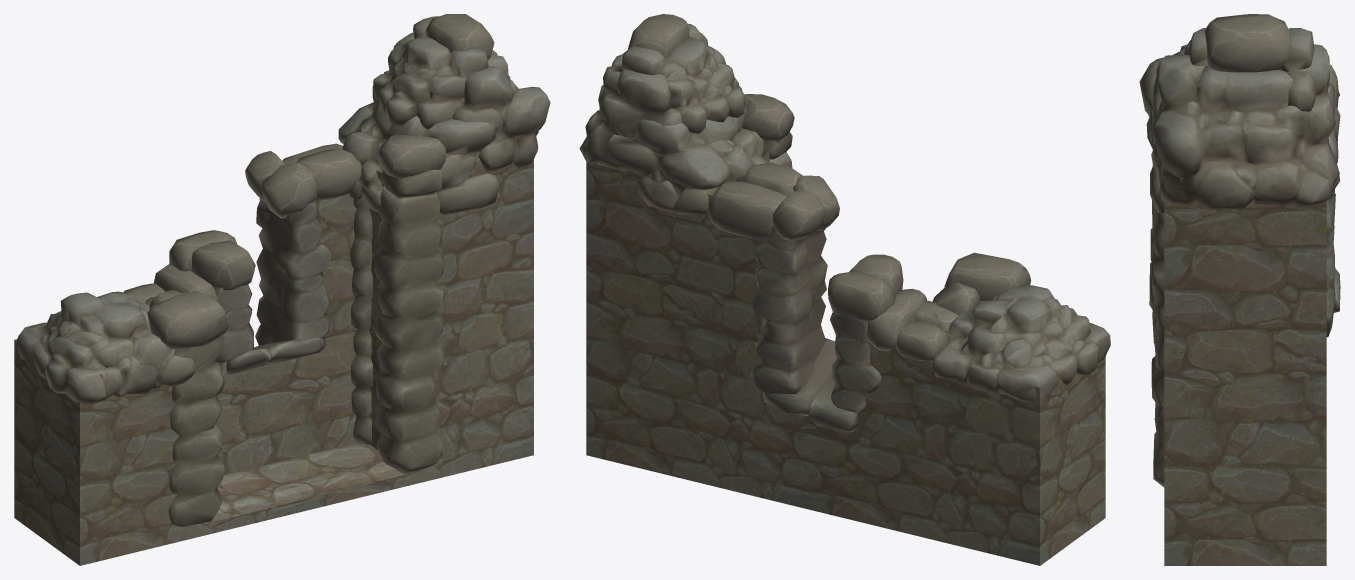
The model's file is MSH_fwOF_Ruins_Wall_Window_01_B.fbx.
3 views of the same model, side by side, from view 1: azimuth 30°, elevation 25°; view 2: azimuth 150°, elevation 25°; view 3: azimuth 270°, elevation 25° (orthographic). The views are drawn at different scales.
Parts seen in each view (by area): view 1: MSH_fwOF_Ruins_Wall_Window_01_B_LOD0, MSH_fwOF_Ruins_Wall_Window_01_B_Base; view 2: MSH_fwOF_Ruins_Wall_Window_01_B_Base, MSH_fwOF_Ruins_Wall_Window_01_B_LOD0; view 3: MSH_fwOF_Ruins_Wall_Window_01_B_Base, MSH_fwOF_Ruins_Wall_Window_01_B_LOD0.
Boxes of the visible parts, box(x1,y1,x2,y2) form: MSH_fwOF_Ruins_Wall_Window_01_B_LOD0: box(16, 14, 550, 527); MSH_fwOF_Ruins_Wall_Window_01_B_Base: box(14, 129, 533, 565); MSH_fwOF_Ruins_Wall_Window_01_B_Base: box(586, 124, 1105, 565); MSH_fwOF_Ruins_Wall_Window_01_B_LOD0: box(579, 14, 1110, 431); MSH_fwOF_Ruins_Wall_Window_01_B_Base: box(1164, 198, 1326, 565); MSH_fwOF_Ruins_Wall_Window_01_B_LOD0: box(1139, 14, 1340, 487).
Size of what is drawn, in the model's own units: 4.27 by 3.52 by 1.24.
